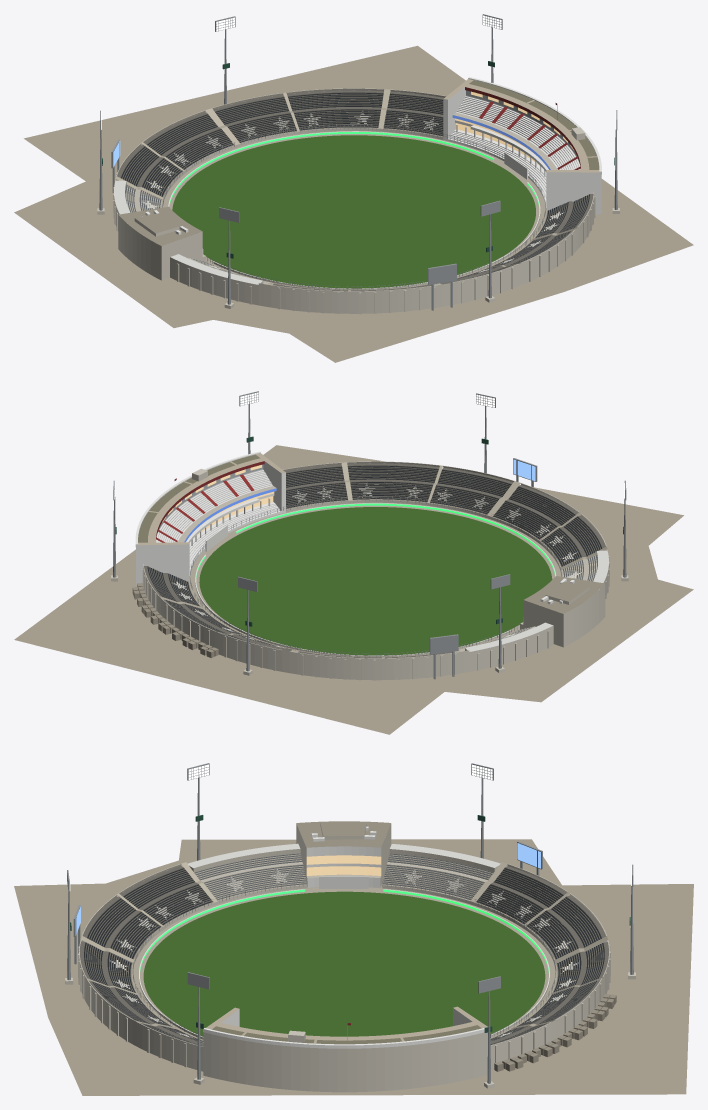
File: rawalpindi_cricket_stadium.glb
3 views of the same model, one above another, from view 1: azimuth 30°, elevation 25°; view 2: azimuth 150°, elevation 25°; view 3: azimuth 270°, elevation 25° (orthographic). The views are drawn at different scales.
Visible parts, largest first — view 1: m_outfield, m_apron, m_stand_wall, m_terrace_walk, m_seat_dark, m_pavilion_white, m_mast_steel, m_concrete_ring, m_pavilion_chairs, m_seat_white_star, m_flat_roof, m_terrace_walk_pale (+6 smaller); view 2: m_outfield, m_apron, m_stand_wall, m_terrace_walk, m_seat_dark, m_pavilion_white, m_mast_steel, m_concrete_ring, m_pavilion_chairs, m_flat_roof, m_seat_white_star, m_pavilion_roof (+6 smaller); view 3: m_outfield, m_apron, m_stand_wall, m_terrace_walk, m_seat_dark, m_terrace_walk_pale, m_concrete_ring, m_seat_grey, m_mast_steel, m_pavilion_white, m_flat_roof, m_seat_white_star (+6 smaller).
Boxes of the visible parts, <box> form: m_outfield: <box>172,135,535,288</box>; m_apron: <box>14,45,693,362</box>; m_stand_wall: <box>97,88,619,314</box>; m_terrace_walk: <box>117,90,593,291</box>; m_seat_dark: <box>121,93,589,278</box>; m_pavilion_white: <box>140,77,601,288</box>; m_mast_steel: <box>99,14,617,310</box>; m_concrete_ring: <box>115,89,577,291</box>; m_pavilion_chairs: <box>448,95,580,207</box>; m_seat_white_star: <box>114,111,564,287</box>; m_flat_roof: <box>118,100,388,245</box>; m_terrace_walk_pale: <box>125,112,557,284</box>; m_outfield: <box>199,507,552,655</box>; m_apron: <box>14,445,693,734</box>; m_stand_wall: <box>111,461,628,680</box>; m_terrace_walk: <box>144,463,605,658</box>; m_seat_dark: <box>147,466,601,648</box>; m_pavilion_white: <box>135,451,574,655</box>; m_mast_steel: <box>113,391,626,679</box>; m_concrete_ring: <box>159,462,607,658</box>; m_pavilion_chairs: <box>156,469,281,575</box>; m_flat_roof: <box>132,576,604,658</box>; m_seat_white_star: <box>172,483,608,654</box>; m_pavilion_roof: <box>138,453,285,545</box>; m_outfield: <box>143,891,545,1036</box>; m_apron: <box>14,839,693,1095</box>; m_stand_wall: <box>65,823,635,1092</box>; m_terrace_walk: <box>79,866,608,1046</box>; m_seat_dark: <box>84,868,604,1046</box>; m_terrace_walk_pale: <box>193,849,494,900</box>; m_concrete_ring: <box>81,862,607,1040</box>; m_seat_grey: <box>194,853,493,900</box>; m_mast_steel: <box>67,763,633,1083</box>; m_pavilion_white: <box>139,826,549,1048</box>; m_flat_roof: <box>296,821,616,1071</box>; m_seat_white_star: <box>110,843,578,1042</box>.
Size of the model in its own units: 245 by 48 by 274.
